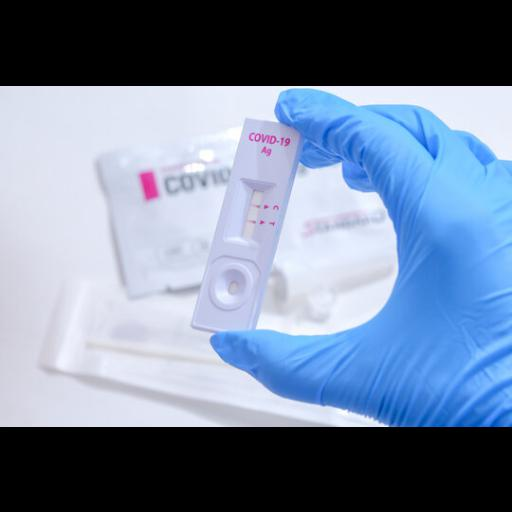Pos: (191, 116, 303, 332)
